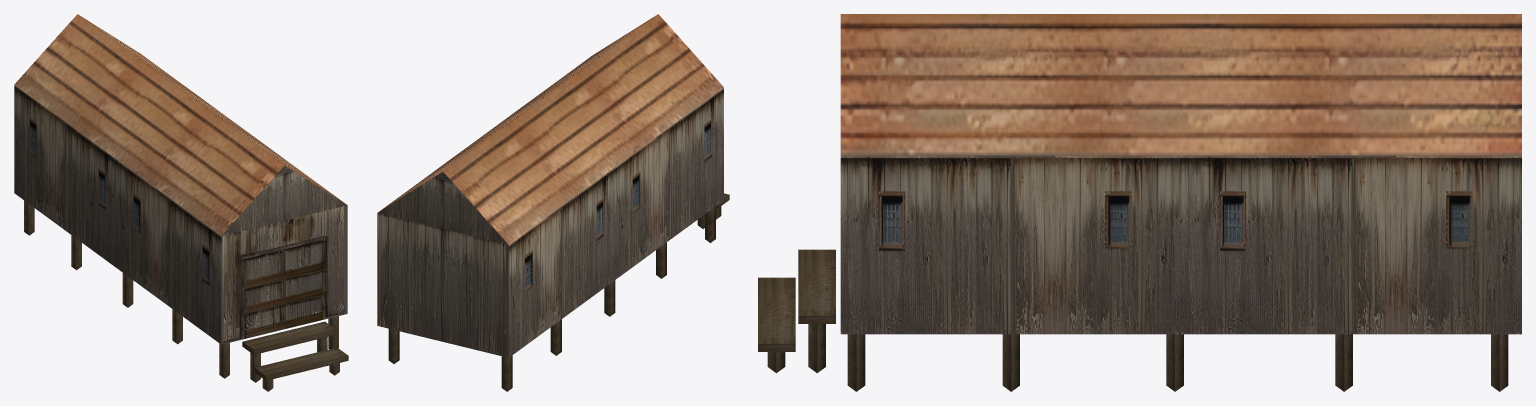
Rendered from prisonbuilding.gltf.
3 renders of one model, left to right at view 1: azimuth 30°, elevation 25°; view 2: azimuth 150°, elevation 25°; view 3: azimuth 270°, elevation 25°, orthographic. The views are drawn at different scales.
Parts seen in each view (by area): view 1: prisonbuilding_atomic0; view 2: prisonbuilding_atomic0; view 3: prisonbuilding_atomic0.
Part boxes in pixels (left/top/right/bottom): prisonbuilding_atomic0: left=14, top=14, right=348, bottom=391; prisonbuilding_atomic0: left=377, top=14, right=729, bottom=391; prisonbuilding_atomic0: left=758, top=14, right=1521, bottom=391.
Size of the model in its own units: 14.39 by 21.83 by 45.73.
2 materials, 2 textured.
